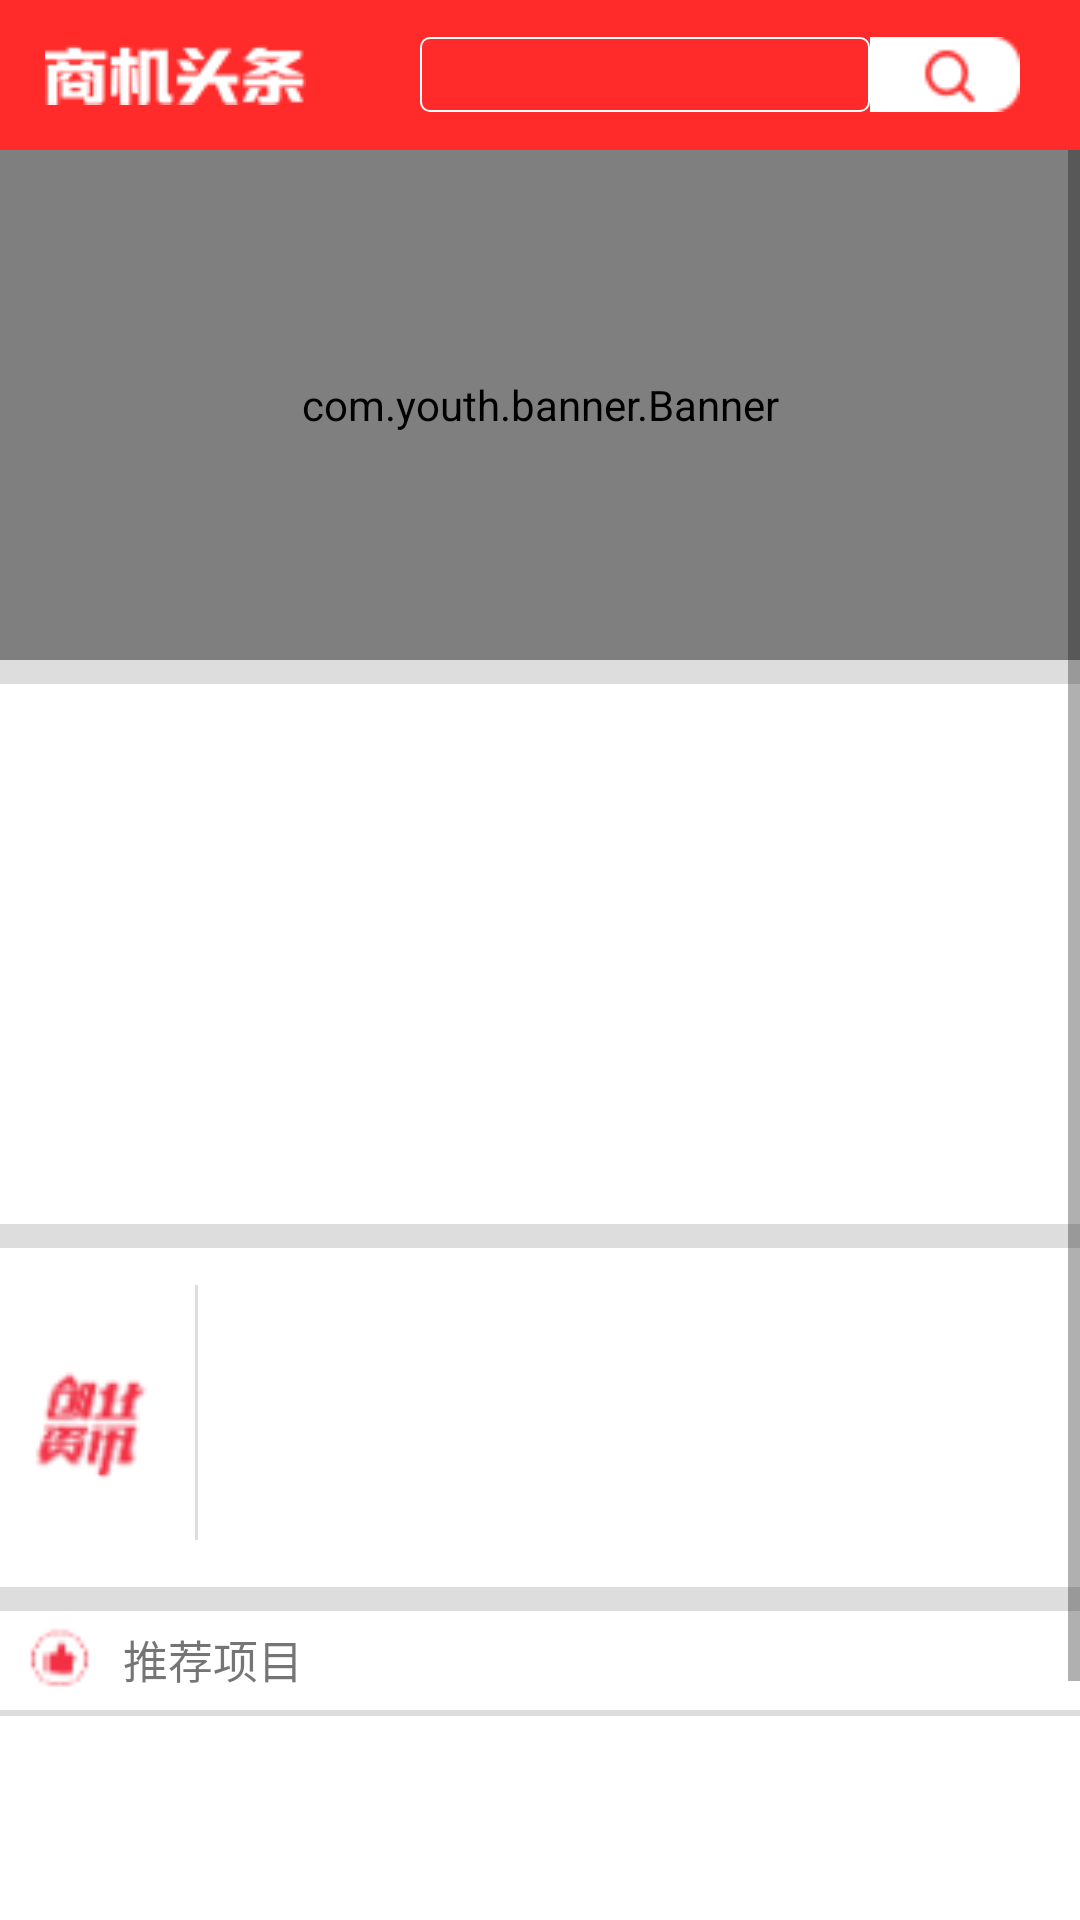

Icons on this 1080px x 1920px Android screen, each with the point to tap as [x,y]:
sousuo: [945,74]
zan: [59,1658]
